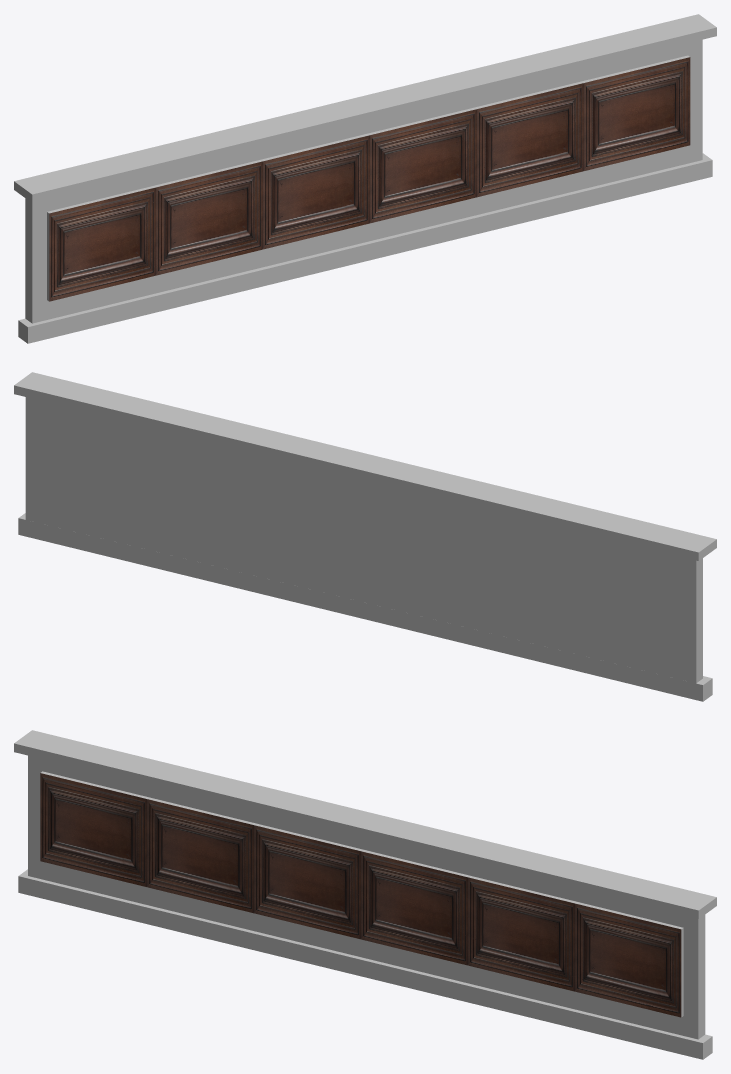
File: Jury wall.FBX
The picture shows the model from 3 angles, top to bottom: view 1: azimuth 30°, elevation 25°; view 2: azimuth 150°, elevation 25°; view 3: azimuth 330°, elevation 25°; orthographic projection.
Parts seen in each view (by area): view 1: jury wall; view 2: jury wall; view 3: jury wall.
Boxes of the visible parts, left/top/right/bottom form: jury wall: left=14, top=14, right=716, bottom=343; jury wall: left=14, top=372, right=716, bottom=701; jury wall: left=14, top=730, right=716, bottom=1059.
Bounding box in the file's own units: 4481 × 954 × 206.
